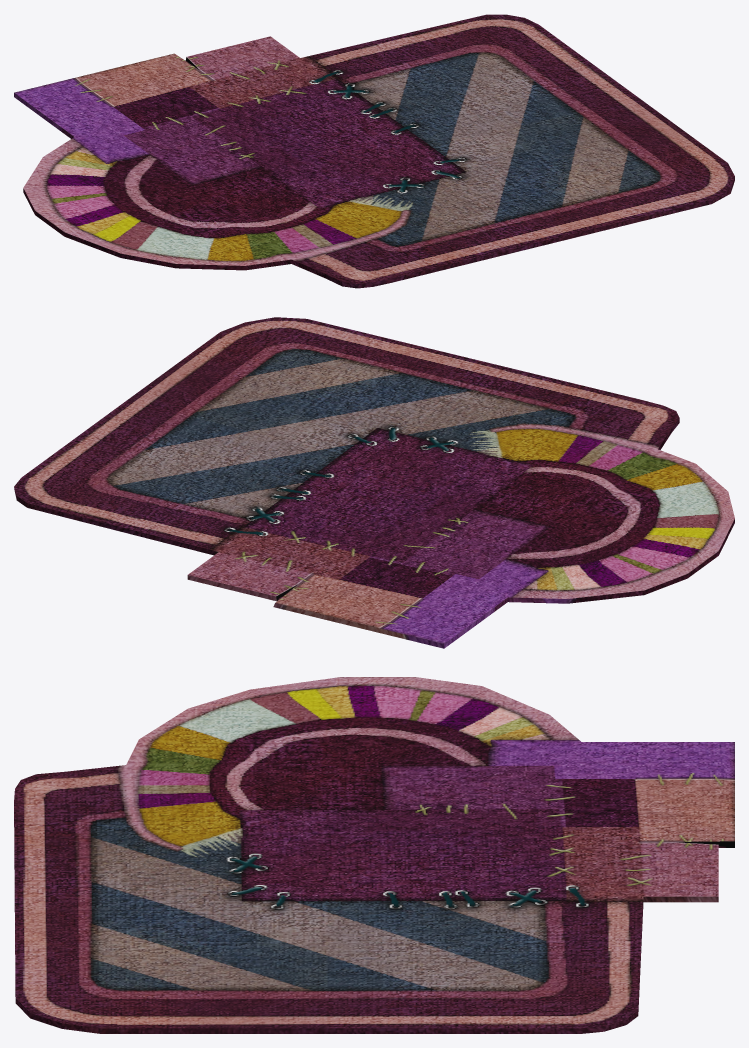
The model's file is M_Home_Garden_Carpet_017.fbx.
The picture shows the model from 3 angles, top to bottom: view 1: azimuth 30°, elevation 25°; view 2: azimuth 150°, elevation 25°; view 3: azimuth 270°, elevation 25°; orthographic projection. The views are drawn at different scales.
Visible parts, largest first — view 1: M_Home_Garden_Carpet_017; view 2: M_Home_Garden_Carpet_017; view 3: M_Home_Garden_Carpet_017.
Boxes of the visible parts, x1,y1,x2,y2 form: M_Home_Garden_Carpet_017: [14, 14, 734, 288]; M_Home_Garden_Carpet_017: [14, 317, 734, 648]; M_Home_Garden_Carpet_017: [14, 677, 734, 1033].
Bounding box in the file's own units: 296 × 2.2 × 257.
